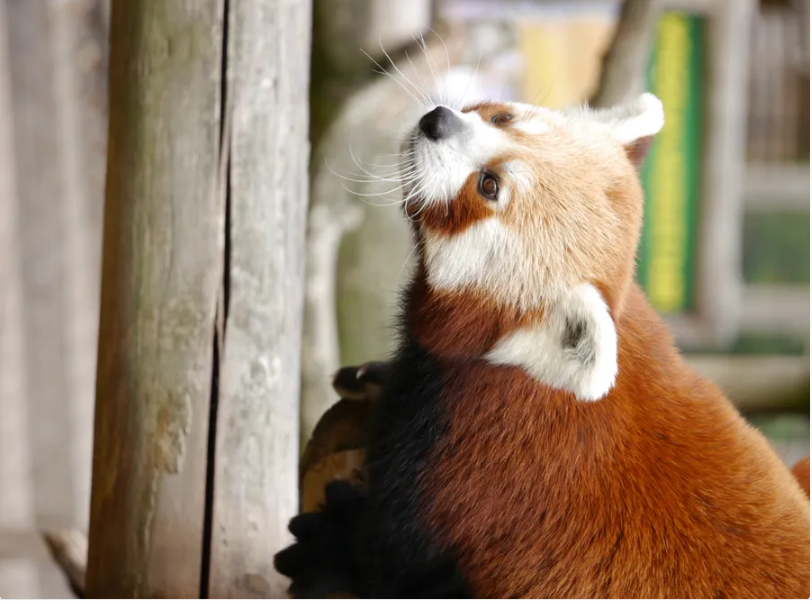red_panda: (343, 75, 678, 423)
